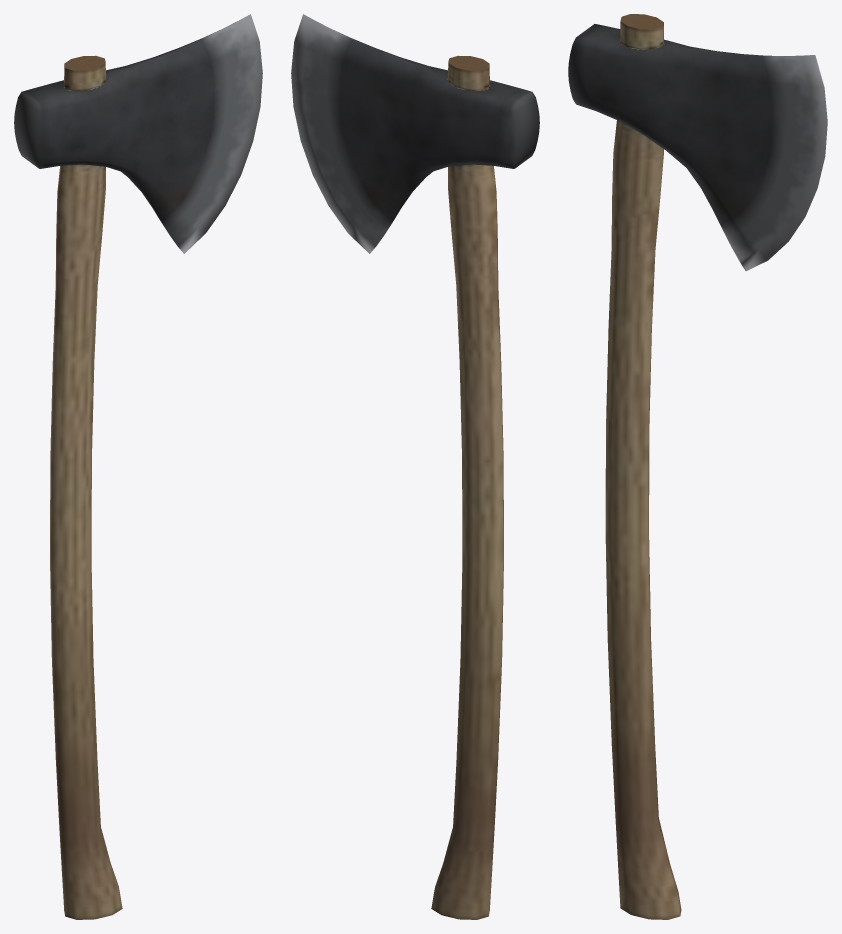
The picture shows the model from 3 angles, left to right: view 1: azimuth 30°, elevation 25°; view 2: azimuth 150°, elevation 25°; view 3: azimuth 330°, elevation 25°; orthographic projection. The views are drawn at different scales.
Parts seen in each view (by area): view 1: variant_0; view 2: variant_0; view 3: variant_0.
Part boxes in pixels (bbox=[...]): variant_0: bbox=[14, 14, 262, 919]; variant_0: bbox=[291, 14, 539, 919]; variant_0: bbox=[568, 14, 827, 919].
Size of the model in its own units: 0.1972 by 0.689 by 0.0358.
2 materials, 2 textured.
